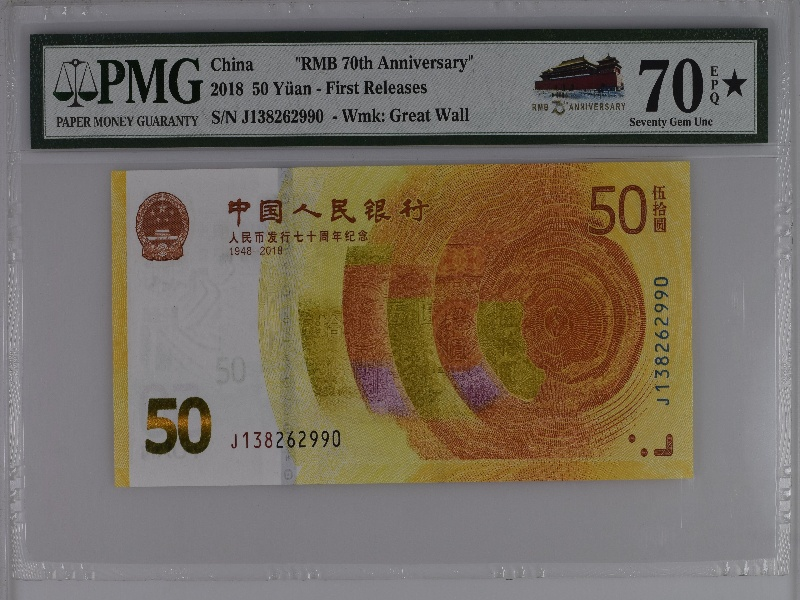papernote: (107, 164, 697, 484)
